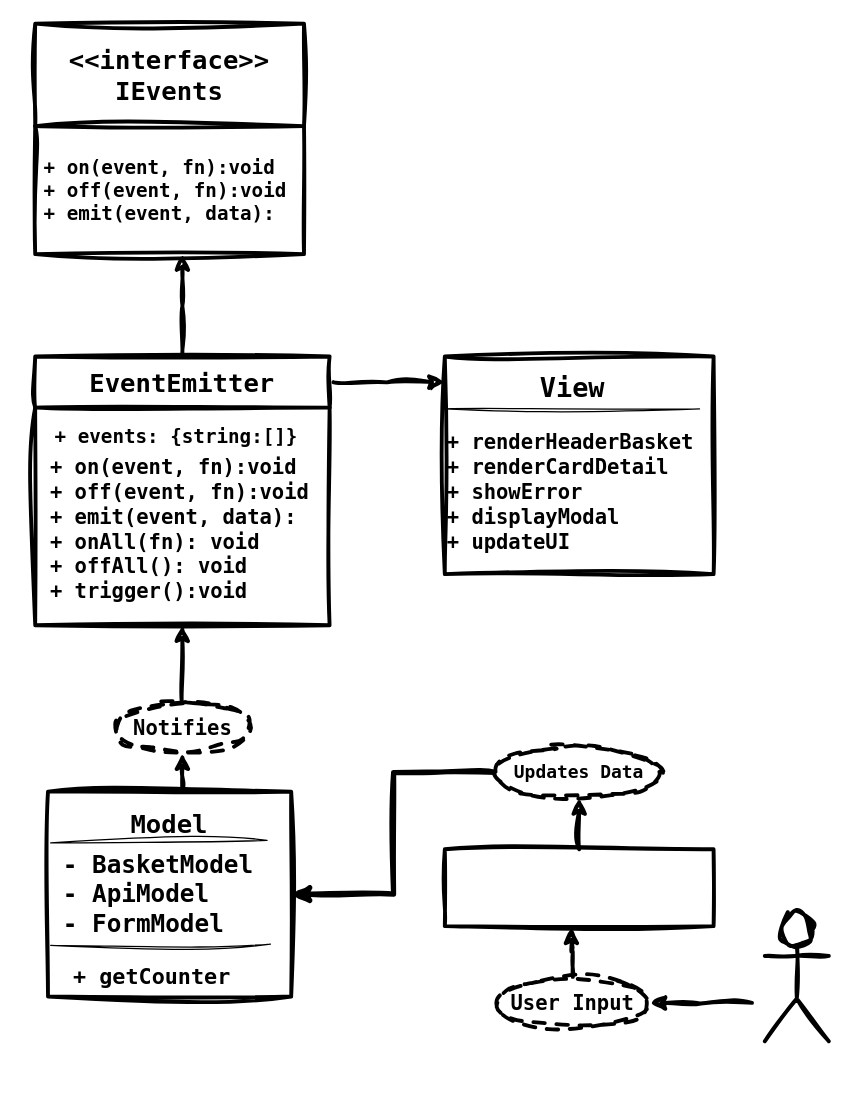
Some shapes in this 852 by 1103 pixel diagram are drawn without their labels. The centre of each missing label's shape, as x and y in pixels:
"DataEntryController" goes at point 578,887.
"user" goes at point 796,977.
